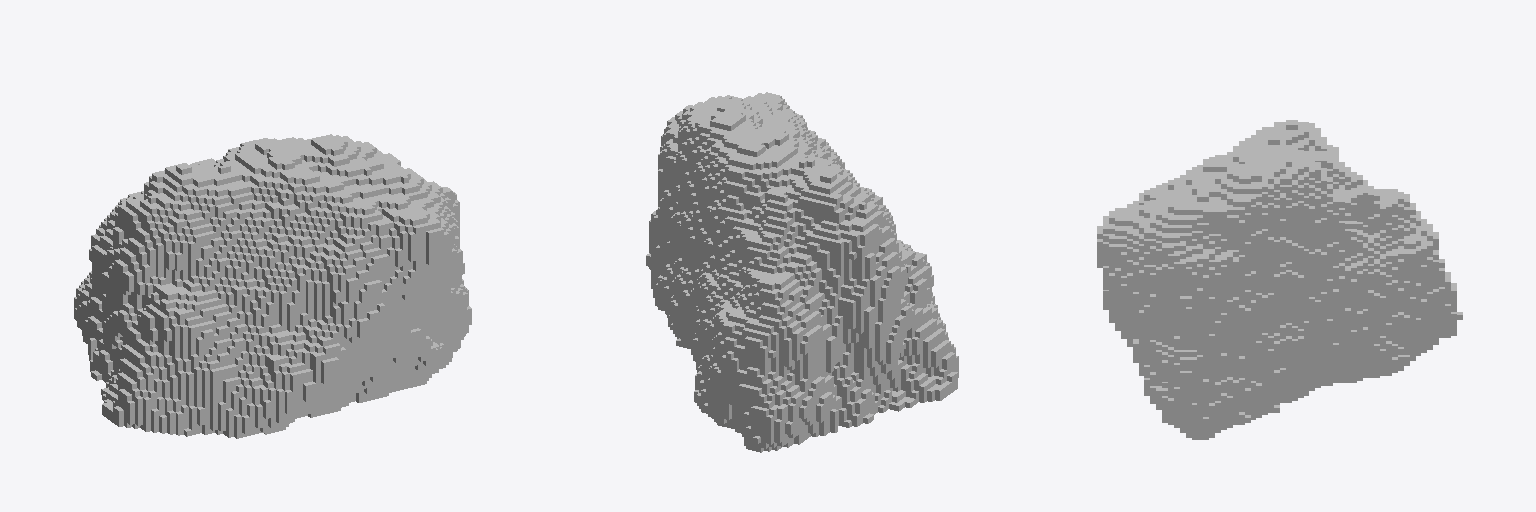
File: Hora2.obj
3 renders of one model, left to right at view 1: azimuth 30°, elevation 25°; view 2: azimuth 150°, elevation 25°; view 3: azimuth 270°, elevation 25°, orthographic.
Parts seen in each view (by area): view 1: untitled; view 2: untitled; view 3: untitled.
Part boxes in pixels (x1,y1,x2,y2): untitled: (74, 134, 471, 438); untitled: (646, 92, 958, 452); untitled: (1097, 120, 1462, 439).
Size of the model in its own units: 6.4 by 4.2 by 6.2.